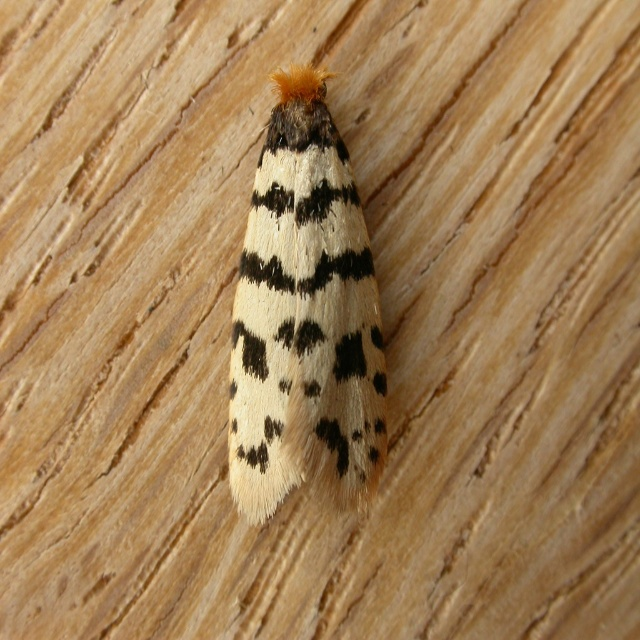Moths and butterflies: (224, 60, 393, 530)
